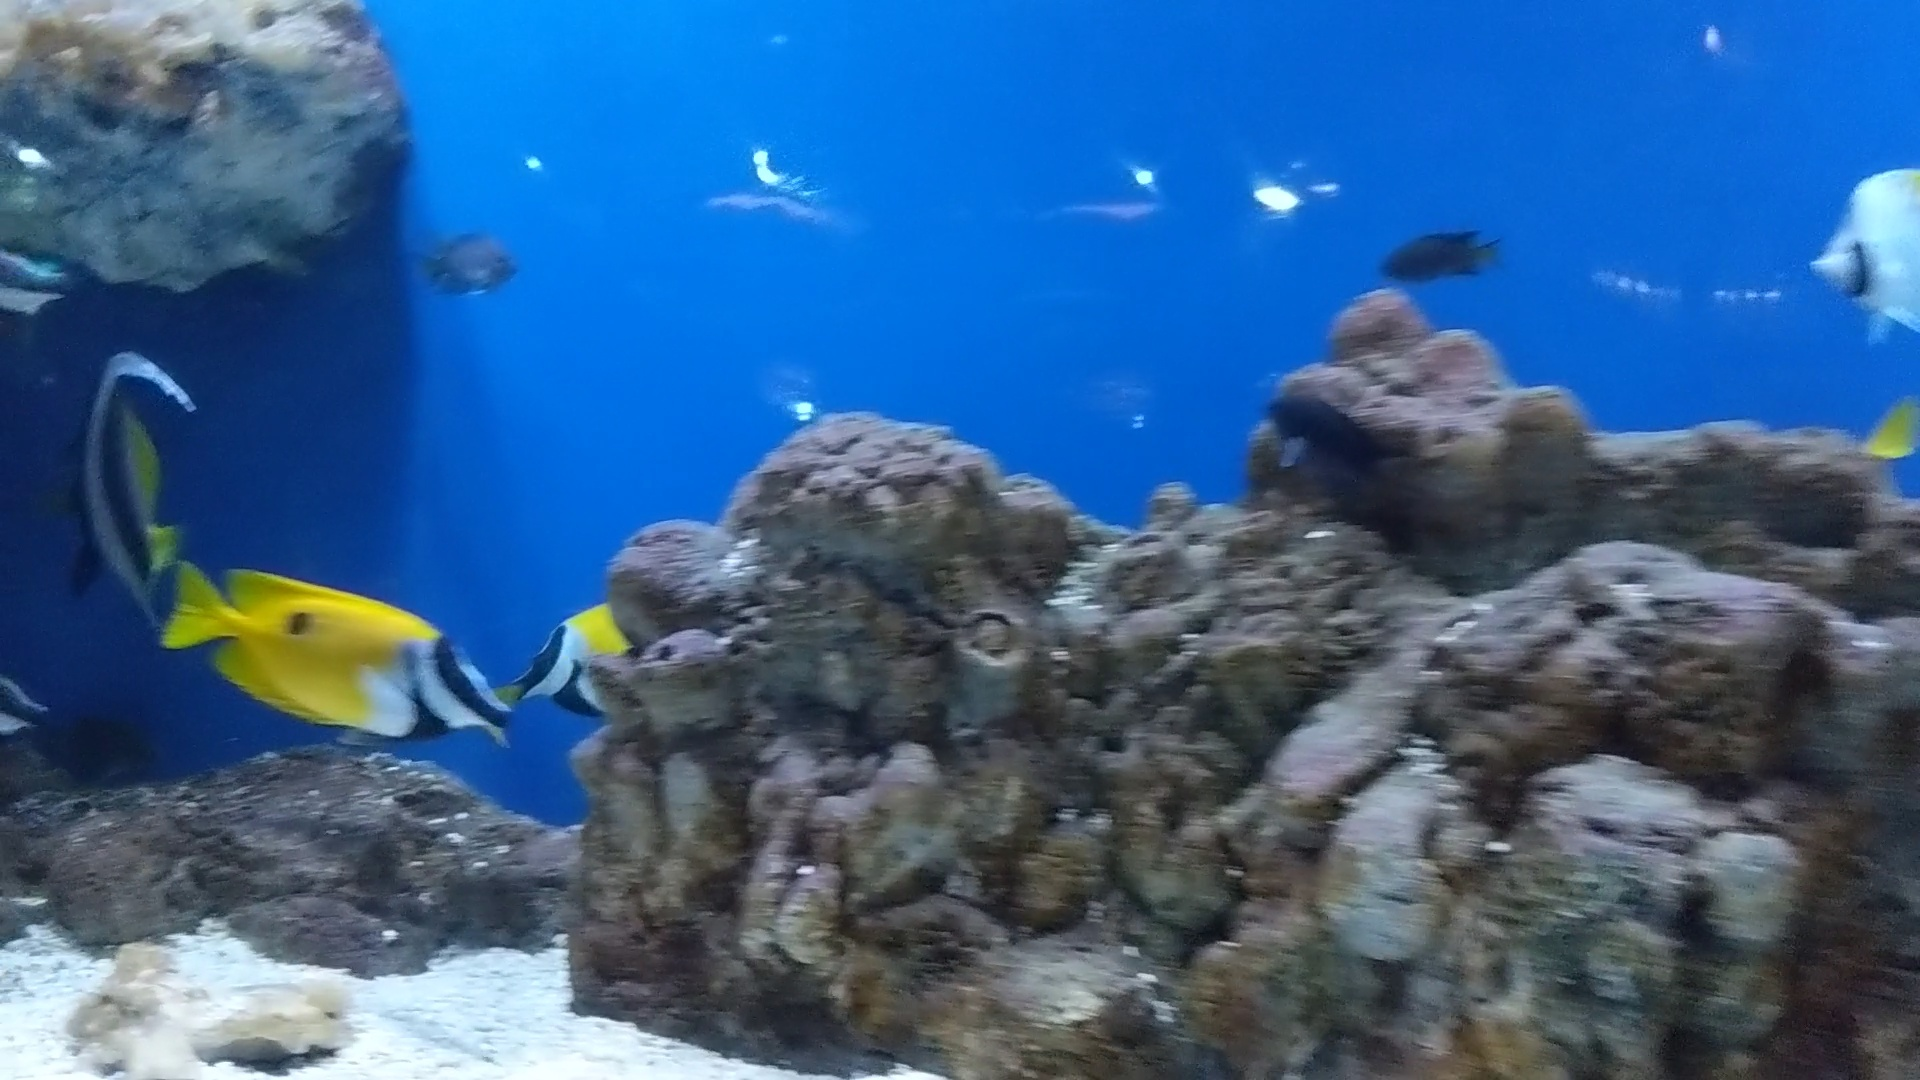moorfish: (49, 340, 212, 630)
rabbitfish: (165, 553, 495, 770), (514, 592, 642, 708)
